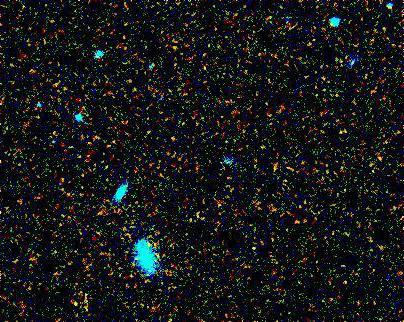star: (124, 243, 154, 273)
